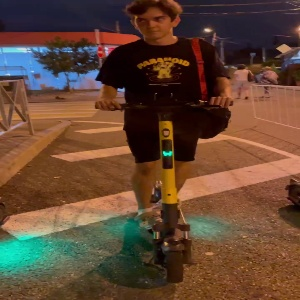human on a scooter: (94, 1, 235, 285)
